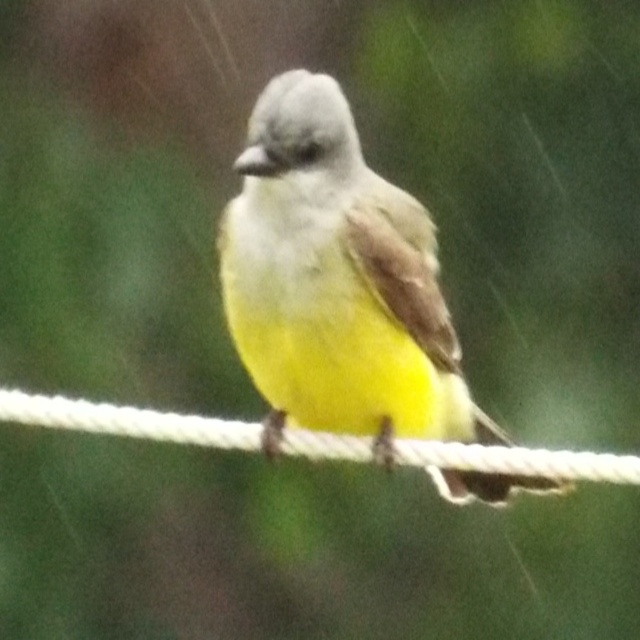Canary: (217, 68, 579, 511)
